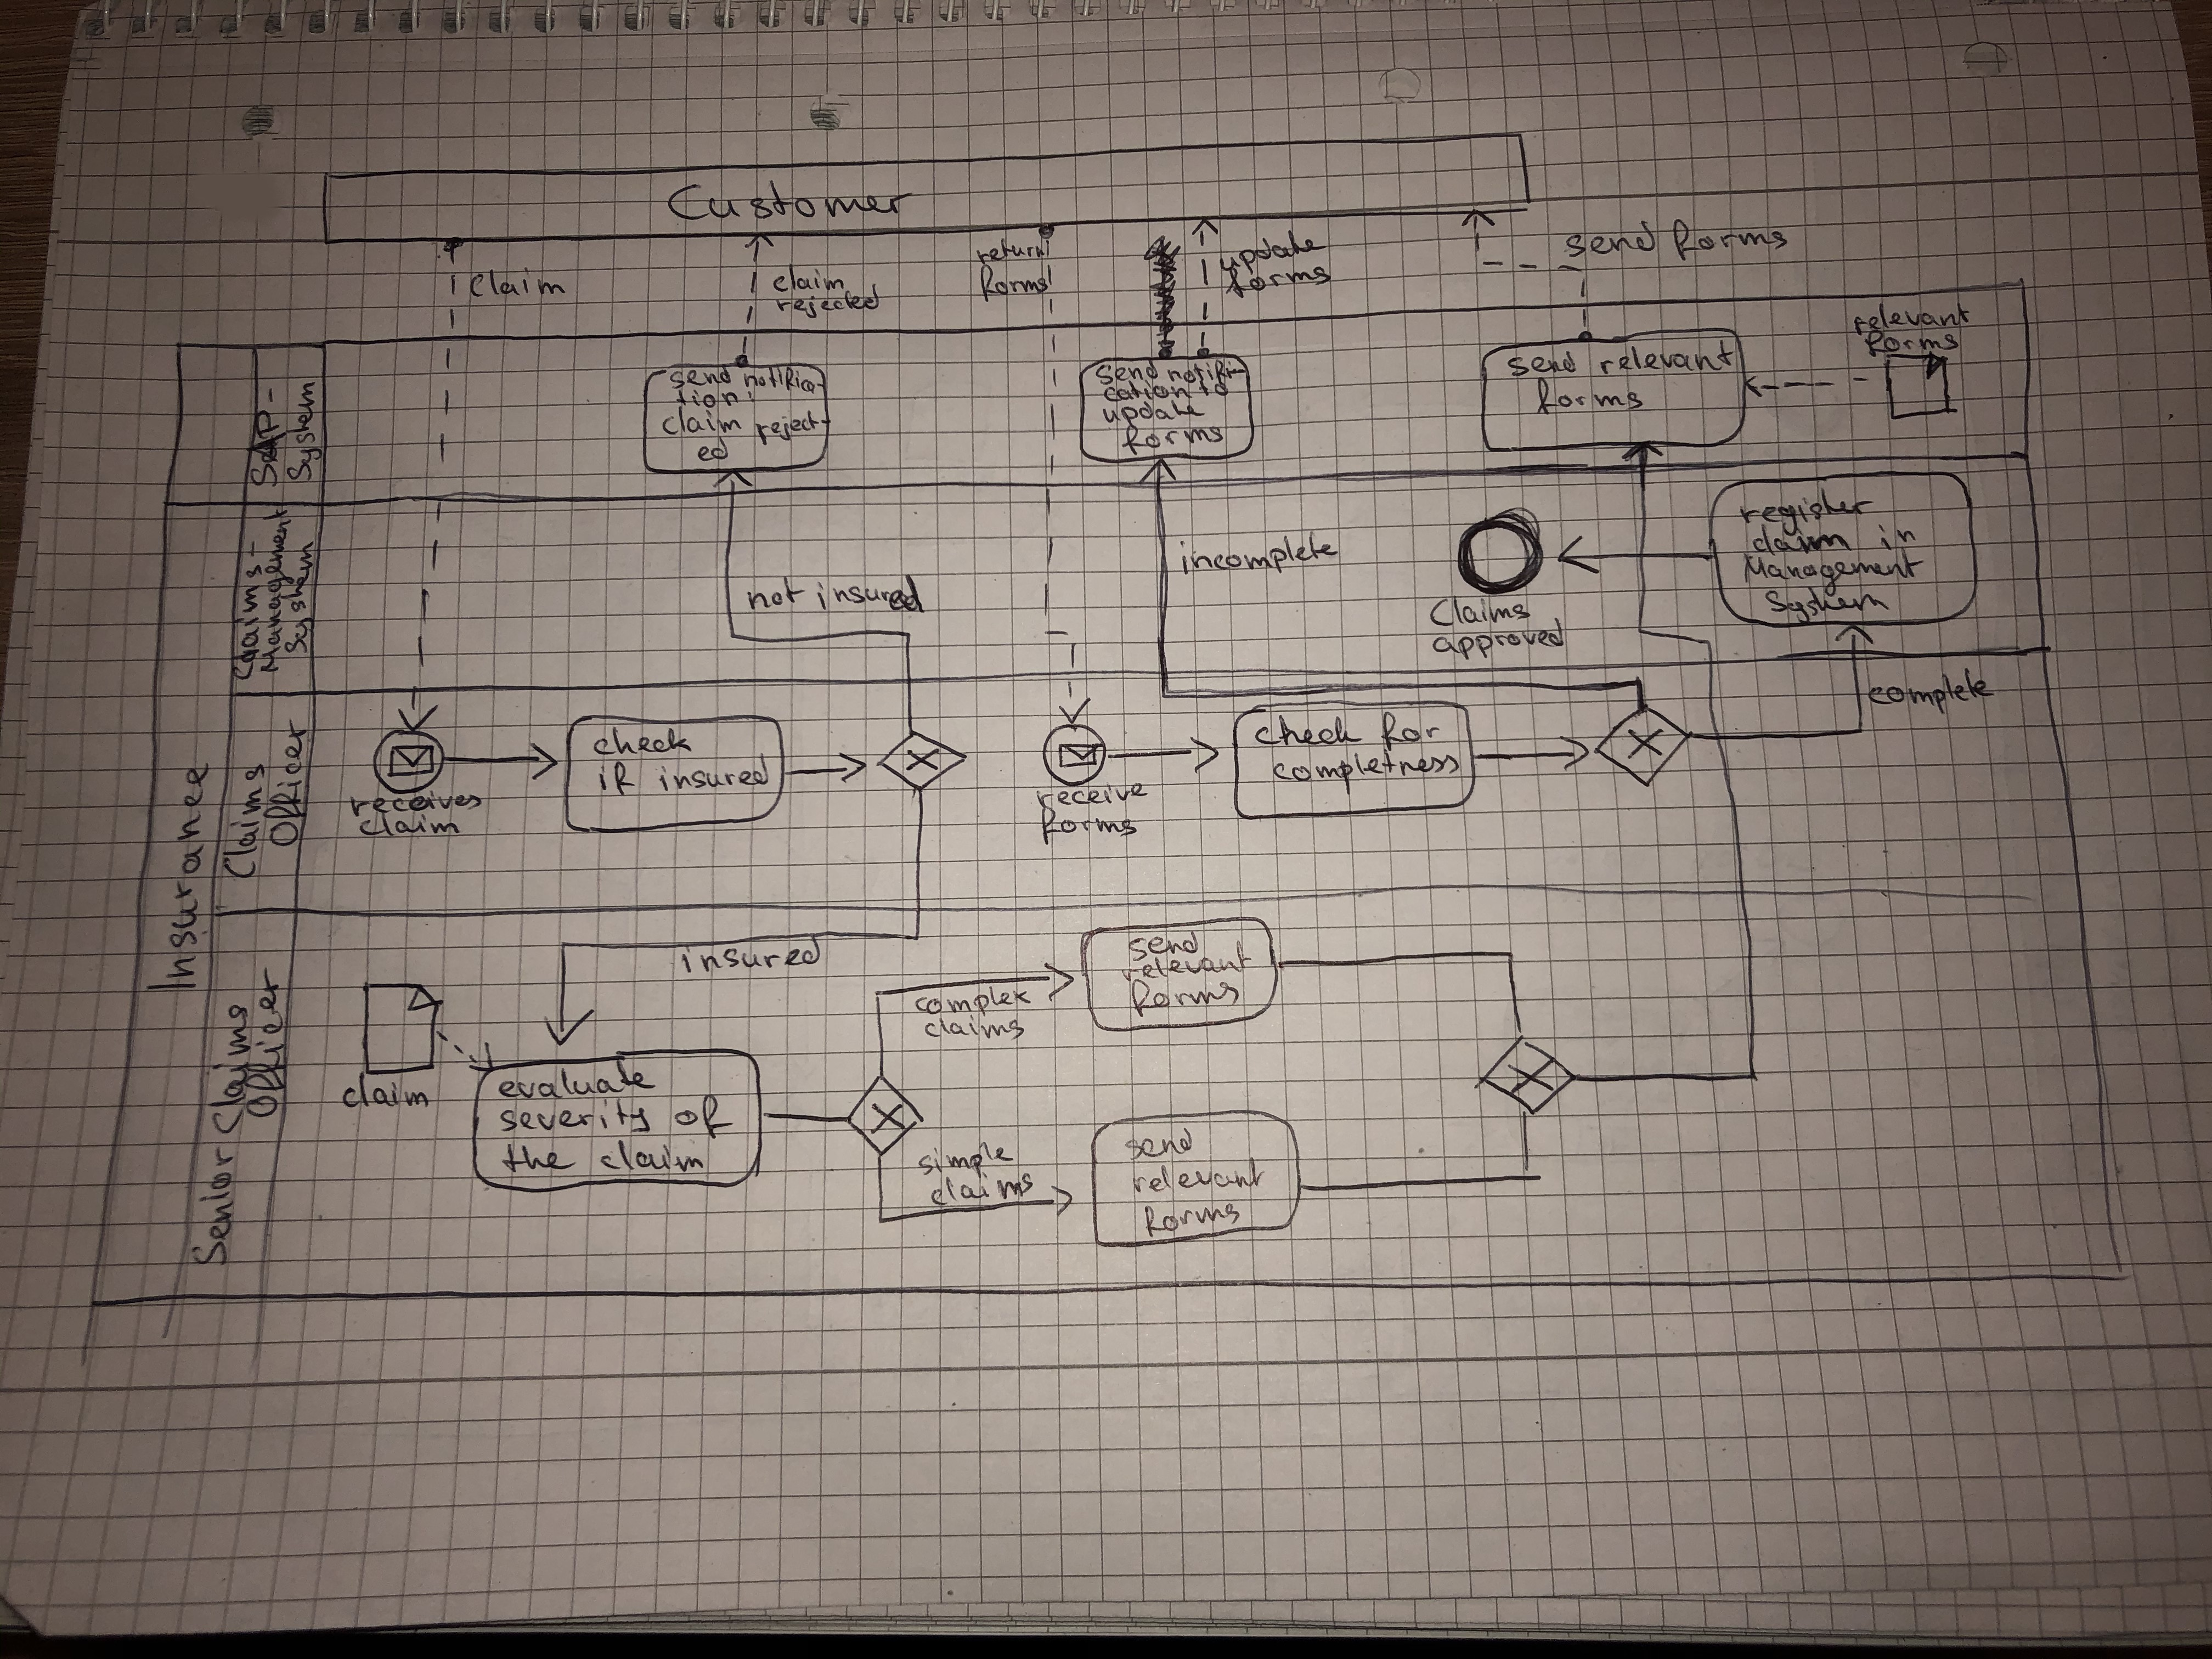Claim: (472, 268, 566, 303)
Claims: (207, 1002, 256, 1133), (219, 762, 270, 880), (1428, 596, 1531, 631)
Claims-: (232, 537, 265, 678)
Customer: (667, 179, 909, 228)
Insurance: (132, 760, 216, 995)
Management: (258, 509, 293, 671), (1743, 552, 1914, 584)
Officer: (265, 720, 314, 843), (246, 969, 284, 1114)
SAP-: (249, 382, 286, 481)
Senior: (193, 1140, 242, 1263)
System: (1763, 586, 1892, 619), (289, 380, 319, 477), (287, 542, 314, 652)
approved: (1430, 620, 1564, 660)
cation: (1104, 380, 1197, 404)
check: (1247, 713, 1366, 755), (594, 723, 695, 762)
claim: (601, 1140, 707, 1173), (1757, 526, 1862, 558), (660, 406, 747, 443), (341, 1084, 435, 1112), (361, 814, 465, 838), (772, 268, 846, 293)
claims: (927, 1169, 1036, 1211), (925, 1018, 1024, 1042)
complete: (1864, 664, 1991, 716)
completness: (1270, 746, 1465, 782)
complex: (914, 985, 1040, 1019)
ed: (698, 443, 728, 462)
evaluate: (498, 1061, 658, 1107)
for: (1378, 711, 1446, 751)
forms: (1529, 380, 1655, 422), (1670, 220, 1791, 260), (1141, 1195, 1245, 1237), (1132, 978, 1242, 1016), (1224, 265, 1331, 301), (1038, 807, 1143, 842), (1864, 328, 1961, 359), (1123, 423, 1224, 453), (977, 267, 1047, 301)
if: (597, 760, 643, 796)
in: (1876, 525, 1919, 554)
incomplete: (1170, 533, 1336, 580)
insured: (676, 939, 820, 979), (808, 579, 925, 617), (650, 760, 772, 796)
not: (752, 580, 805, 615)
notifi: (1169, 359, 1235, 385)
notifica-: (747, 368, 822, 394)
of: (676, 1096, 732, 1140)
receive: (1036, 779, 1150, 814)
receives: (352, 789, 484, 821)
register: (1742, 491, 1885, 530)
reject-: (751, 406, 829, 450)
rejected: (777, 288, 883, 321)
relevant: (1594, 340, 1738, 382), (1120, 946, 1249, 986), (1129, 1162, 1264, 1197), (1850, 305, 1973, 335)
return: (975, 240, 1045, 265)
send: (1564, 221, 1660, 256), (1123, 1126, 1200, 1162), (1508, 347, 1580, 376), (1132, 931, 1200, 960), (1099, 361, 1158, 383), (672, 368, 733, 389)
severity: (502, 1101, 664, 1138)
simple: (916, 1143, 1015, 1180)
the: (502, 1143, 580, 1176)
tion: (671, 382, 744, 411)
update: (1214, 242, 1325, 279), (1108, 396, 1205, 425)
